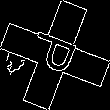P_E: (25, 28, 85, 82)
